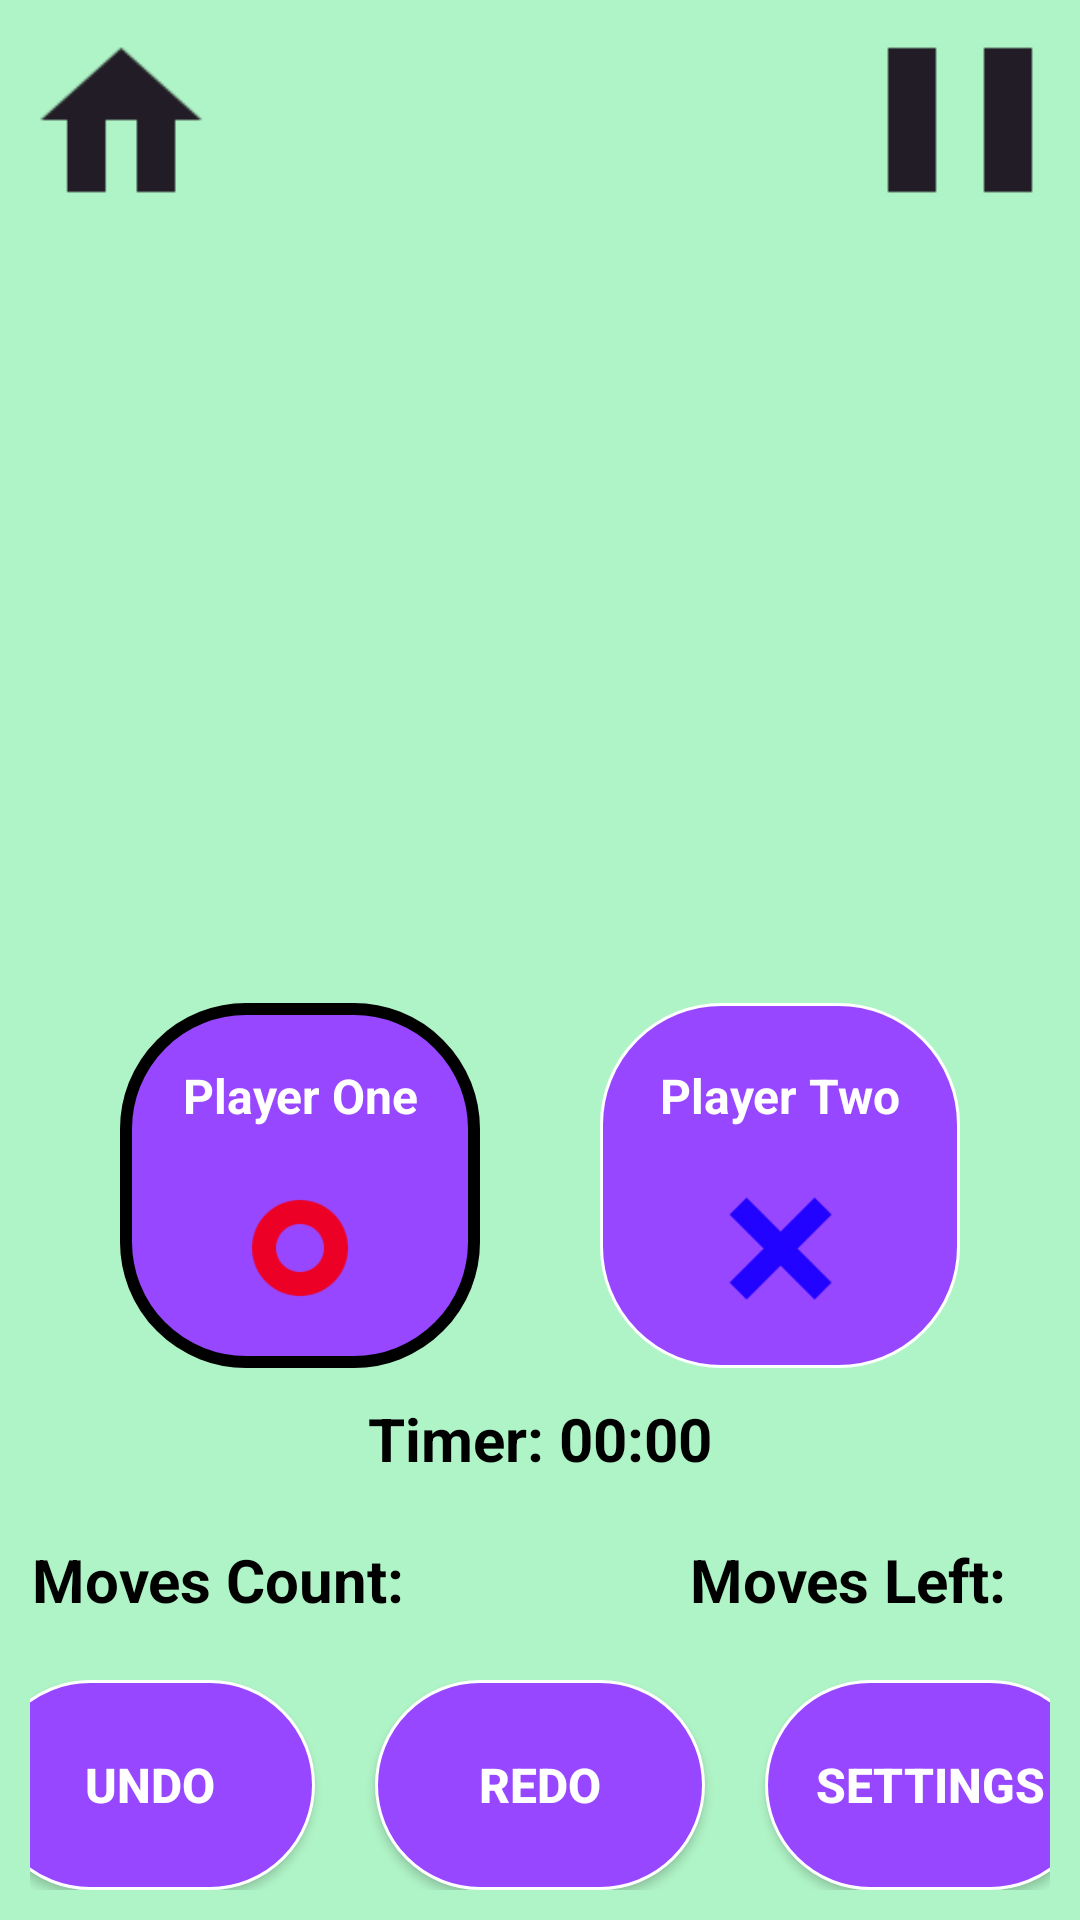

Point at icon controls on the screen. Image size 1080 × 1920, points as [x,y].
circle marker: [300,1248]
cross marker: [780,1248]
home: [121,120]
pause: [960,120]
